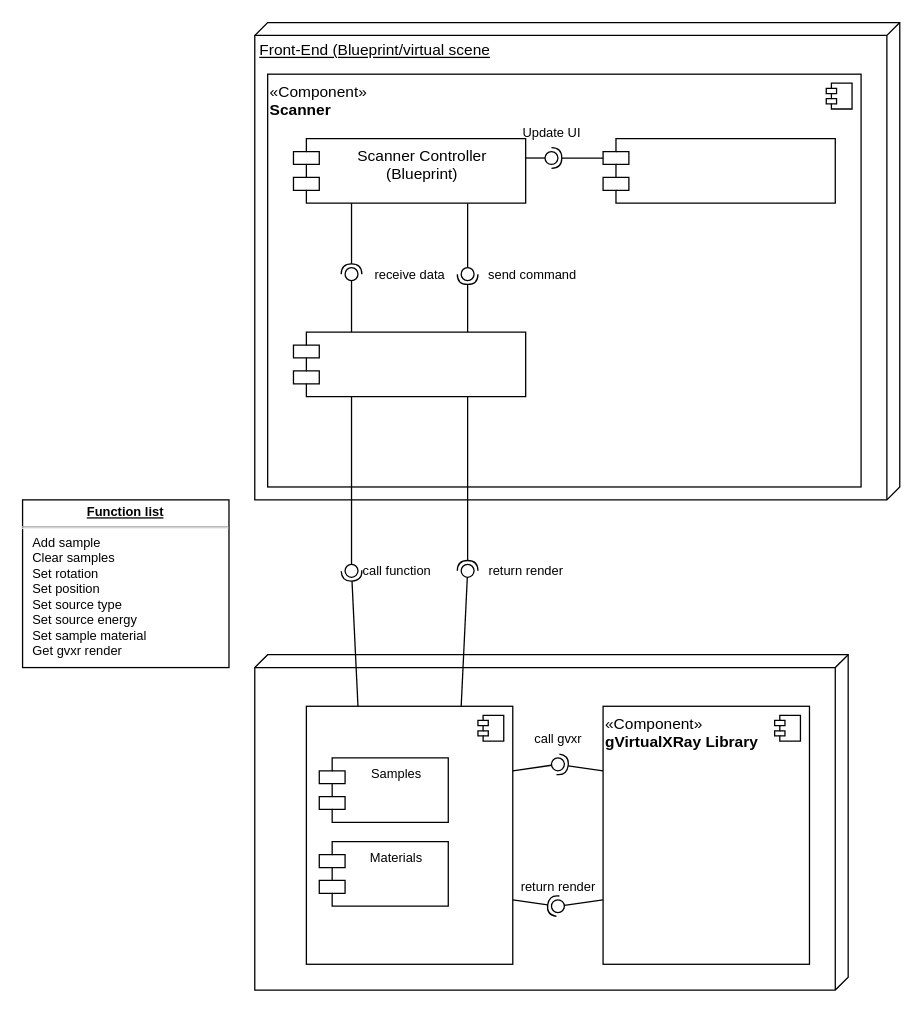
This 922x1013 diagram has some shape labels left out. Each missing label, with the box of its shape:
Back-End: (253, 653, 848, 990)
Scanner UI (Blueprint): (602, 137, 835, 203)
X Ray interface (Blueprint): (292, 331, 526, 397)
«Component» X Ray Intermediate: (305, 705, 513, 964)
